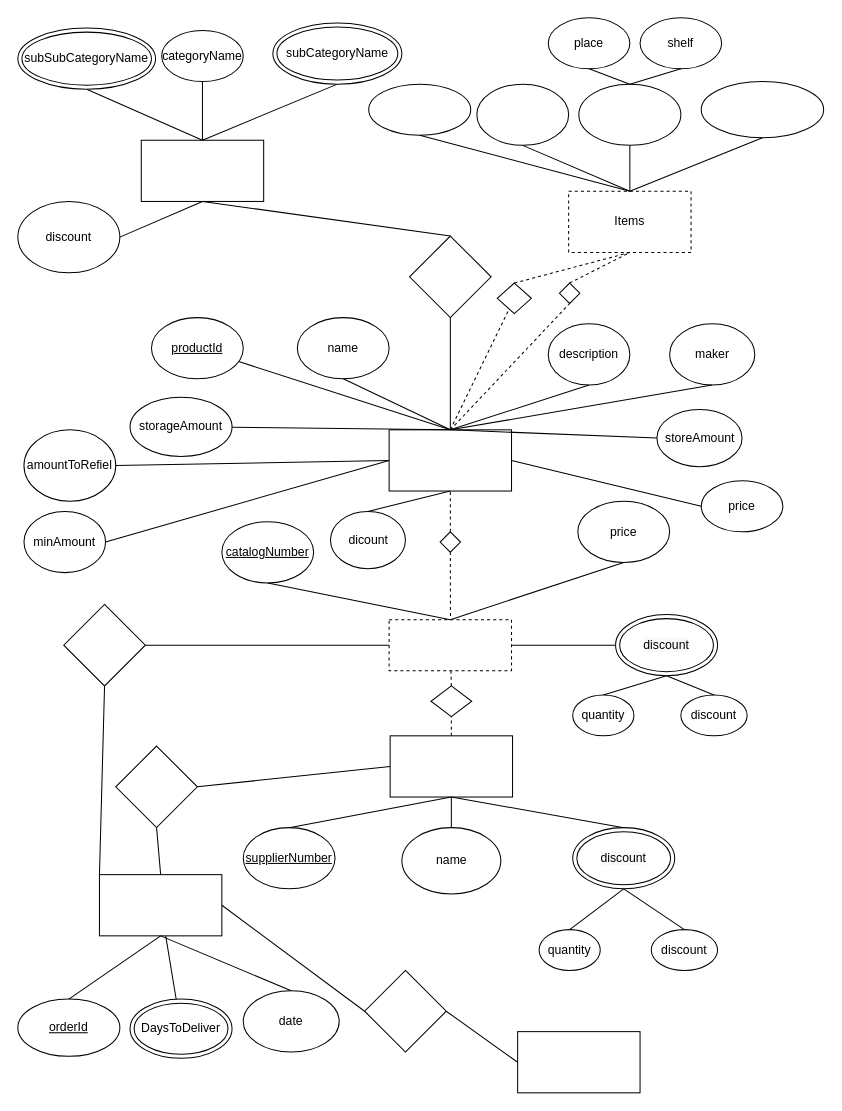
This 842x1111 diagram has some shape labels left out. Each missing label, with the centre of its shape:
"Categories" goes at point (202, 170).
"defectiveDescription" goes at point (762, 109).
"expirationDate" goes at point (419, 109).
"ItemId" goes at point (522, 114).
"location" goes at point (629, 114).
"OrderFromSupplier" goes at point (160, 905).
"PastOrder" goes at point (578, 1062).
"Products" goes at point (450, 460).
"ProductSupplier" goes at point (450, 645).
"Supplieres" goes at point (451, 766).
